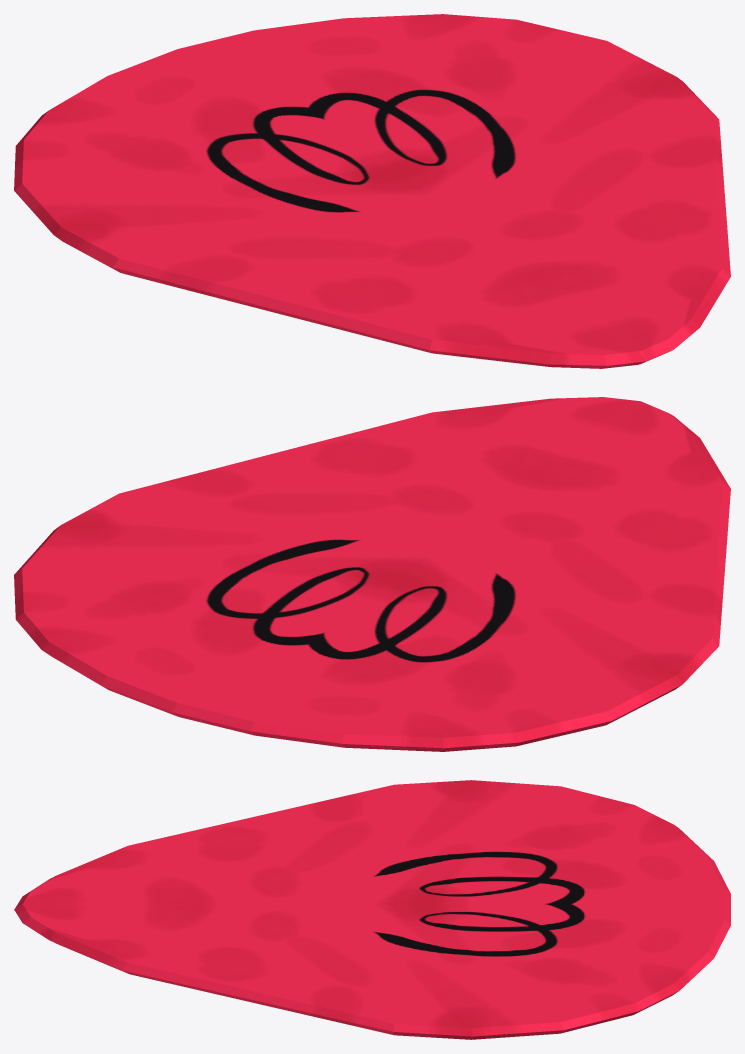
Rendered from Mediator.fbx.
3 views of the same model, one above another, from view 1: azimuth 30°, elevation 25°; view 2: azimuth 150°, elevation 25°; view 3: azimuth 270°, elevation 25° (orthographic). The views are drawn at different scales.
Visible parts, largest first — view 1: Mediator; view 2: Mediator; view 3: Mediator.
Boxes of the visible parts, box(x1,y1,x2,y2) form: Mediator: box(14, 14, 730, 368); Mediator: box(14, 397, 730, 751); Mediator: box(14, 780, 730, 1039).
Size of the model in its own units: 8.31 by 0.187 by 9.93.
1 material, 1 textured.
